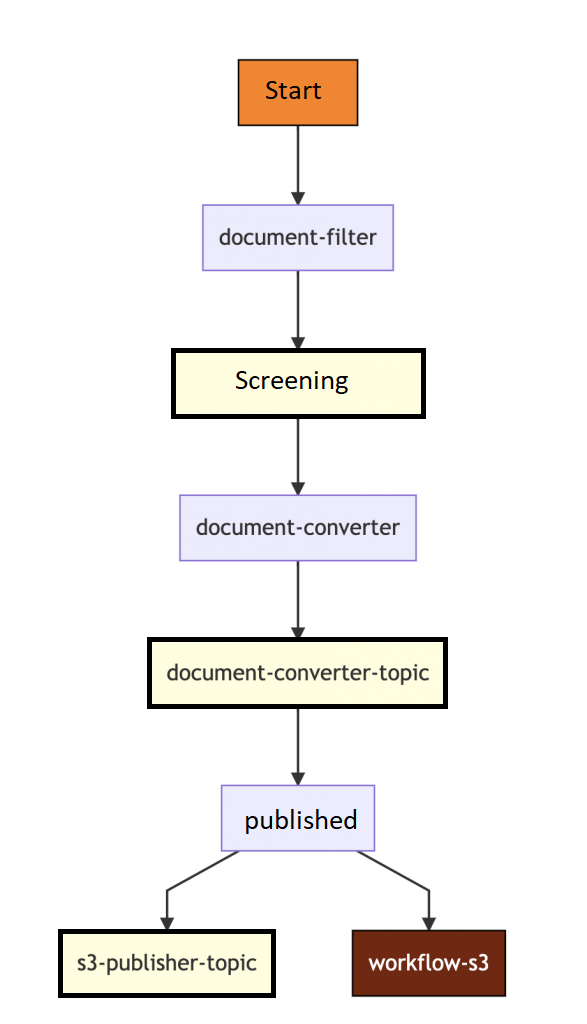arrow: (156, 846, 253, 932), (351, 847, 440, 933), (287, 697, 314, 788), (289, 266, 312, 353), (289, 121, 312, 207), (289, 555, 309, 641), (290, 411, 309, 499)
process: (142, 630, 453, 716), (165, 342, 431, 424), (175, 489, 422, 566), (56, 922, 278, 1002), (197, 200, 398, 277), (215, 778, 381, 858), (347, 922, 511, 1002), (233, 52, 364, 132)
text: (162, 660, 433, 686), (190, 513, 403, 541), (72, 950, 261, 980), (215, 221, 379, 249), (242, 803, 364, 838), (229, 363, 351, 397), (364, 947, 490, 978), (261, 74, 322, 103)
